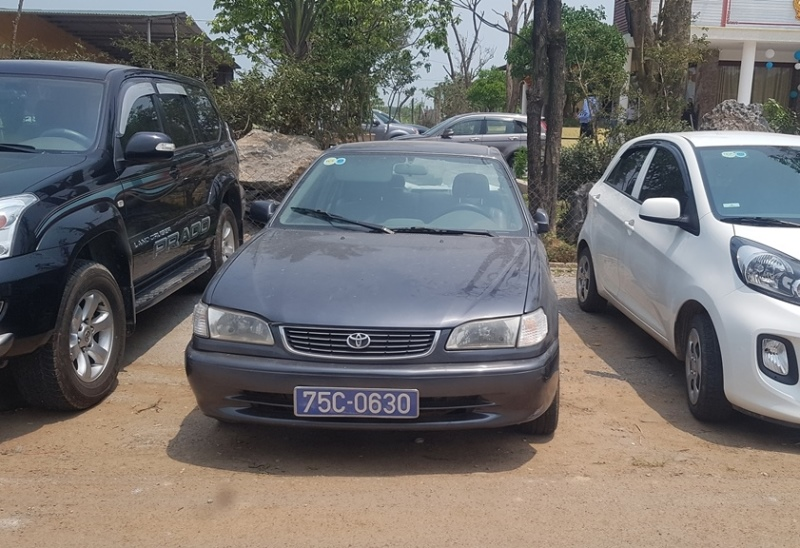plate: (293, 383, 422, 421)
